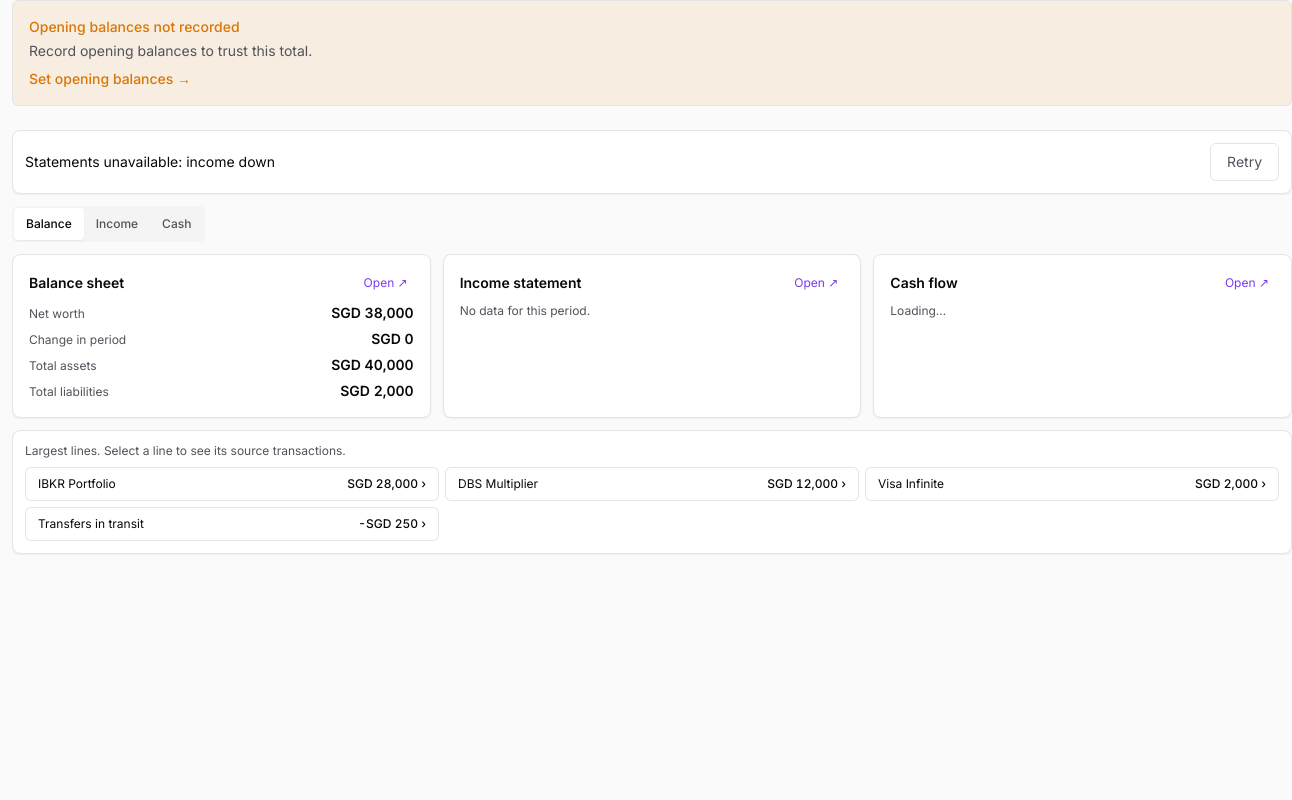
it: Three-statement cockpit (#2621 LC, #2548 P1) › shows a retry when a statement fails and a loading line while a card waits
The image size is (1292, 800).
Expected: the text "Statements unavailable: income down" is shown, [25,153,275,170]
Expected: the message "Loading…" is shown, [890,303,946,318]
Click the button "Retry". click: click(1245, 162)
box: [1210,143,1279,181]
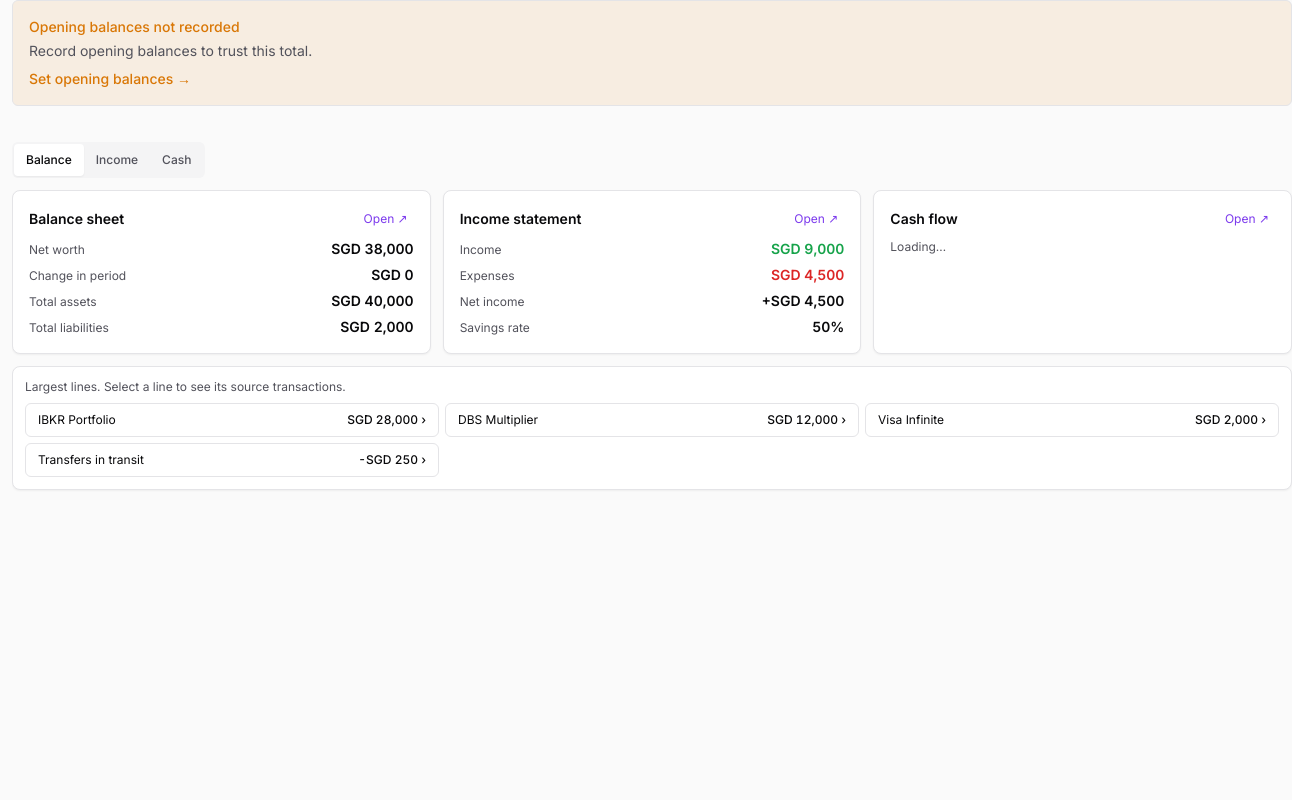
Expected: the text "Statements unavailable" is gone
Expected: the text "50%" is shown, [812,317,844,337]
